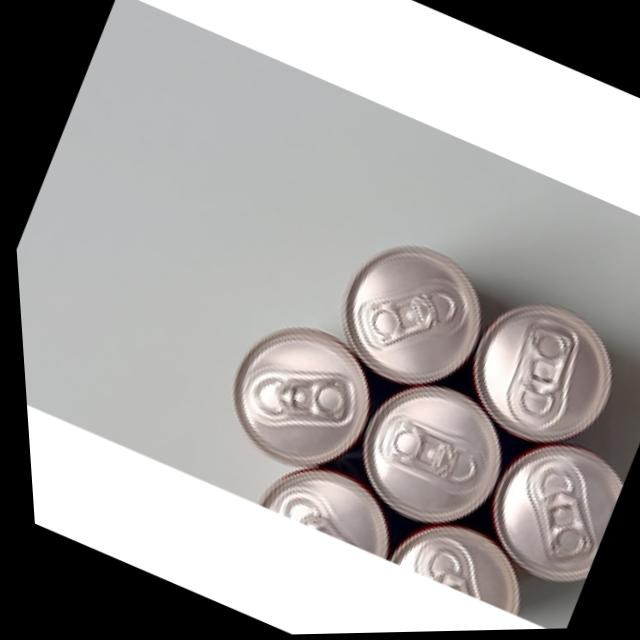aluminum_soda_cans: (316, 222, 508, 409), (444, 281, 640, 463), (458, 424, 629, 602), (338, 381, 517, 545), (217, 333, 380, 486)
